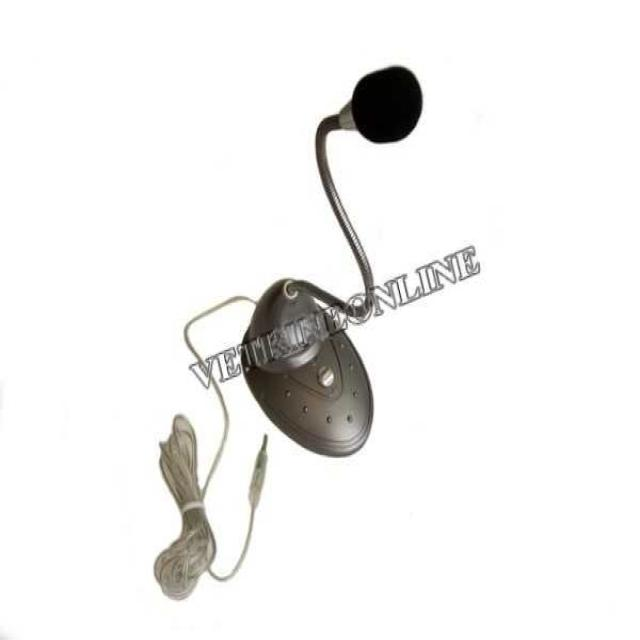microphone: (326, 60, 434, 154)
